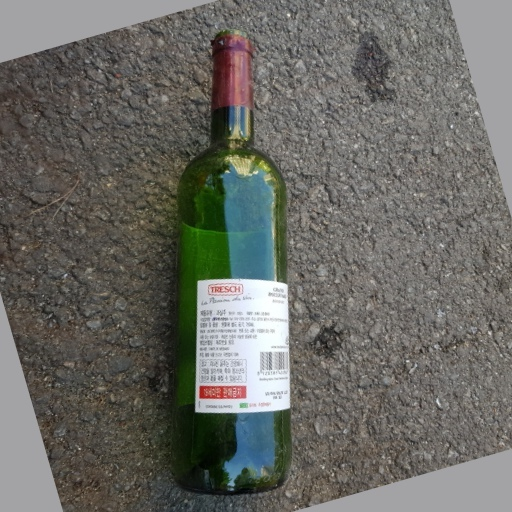Glass_2: (167, 26, 293, 491)
